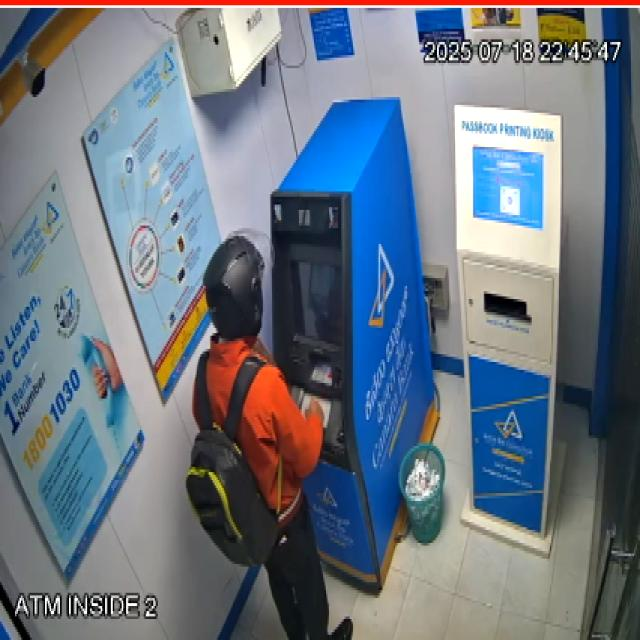helmet: (203, 230, 275, 340)
